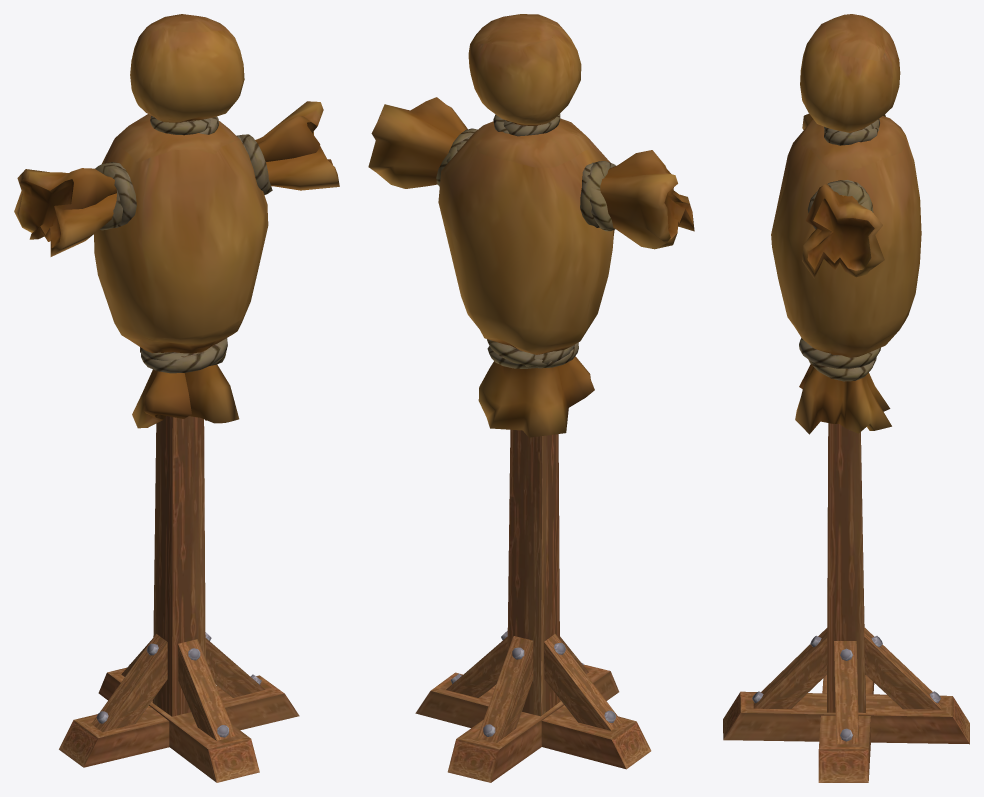
File: dummy.glb
3 renders of one model, left to right at view 1: azimuth 30°, elevation 25°; view 2: azimuth 150°, elevation 25°; view 3: azimuth 270°, elevation 25°, orthographic.
Visible parts, largest first — view 1: Dummy; view 2: Dummy; view 3: Dummy.
Boxes of the visible parts, x1=… form: Dummy: x1=14, y1=14, x2=339, y2=782; Dummy: x1=368, y1=14, x2=694, y2=782; Dummy: x1=723, y1=14, x2=969, y2=782.
Size of the model in its own units: 0.8084 by 1.86 by 0.5847.
3 materials, 3 textured.
